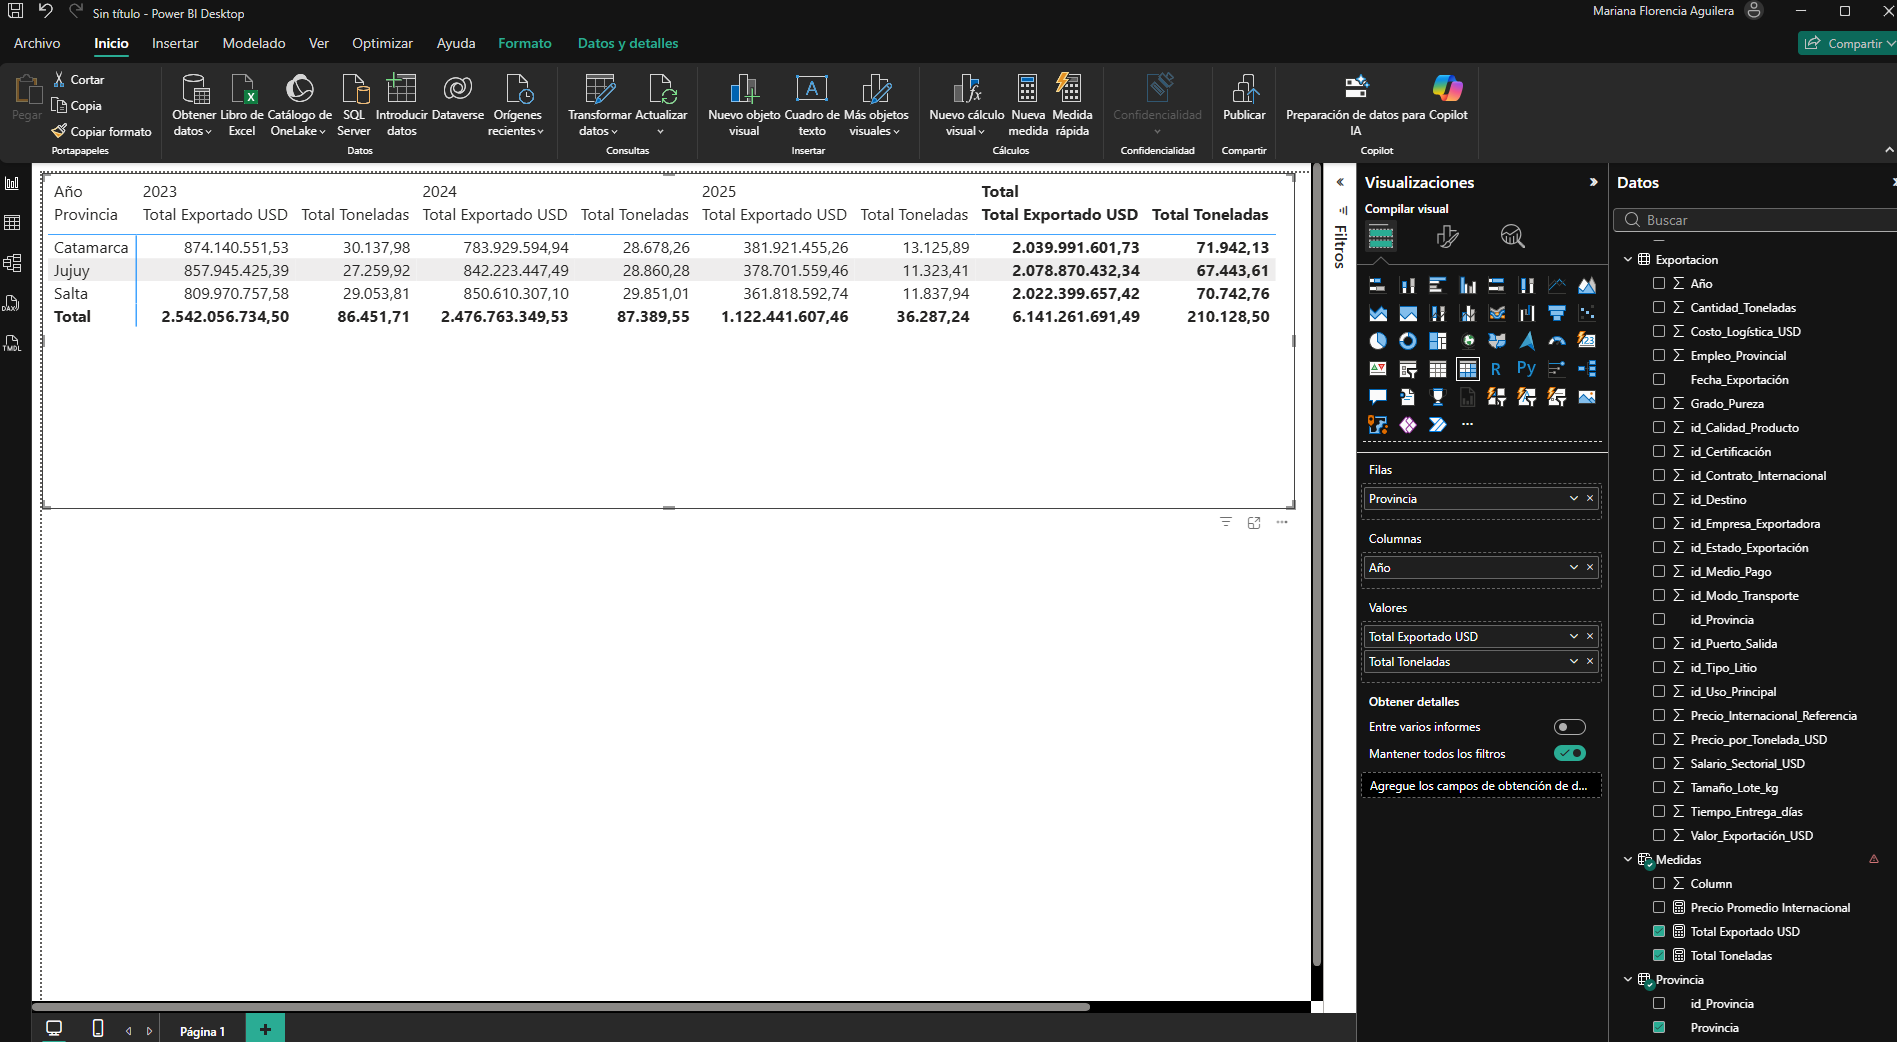

This screenshot's page, from the dashboard's own definition file:
{"tool":"powerbi","page":{"name":"Página 1","canvas":[1280,720],"ordinal":0},"visuals":[{"type":"pivotTable","fields":{"Rows":["Provincia.Provincia"],"Columns":["Calendario.Año"],"Values":["Exportacion.Total Exportado USD","Exportacion.Crecimiento YoY USD"]},"box":[0,0,1172.5,280],"z":0}]}

Visuals, with their boxes on the page's 1280x720 design canvas (x1, y1, x2, y2). These are canvas units, not pixel positions in the 1897x1042 screenshot, which may show the page scaled, cropped or inside an application window:
pivotTable - Provincia.Provincia x Calendario.Año: pyautogui.locateOnScreen(0, 0, 1172, 280)
